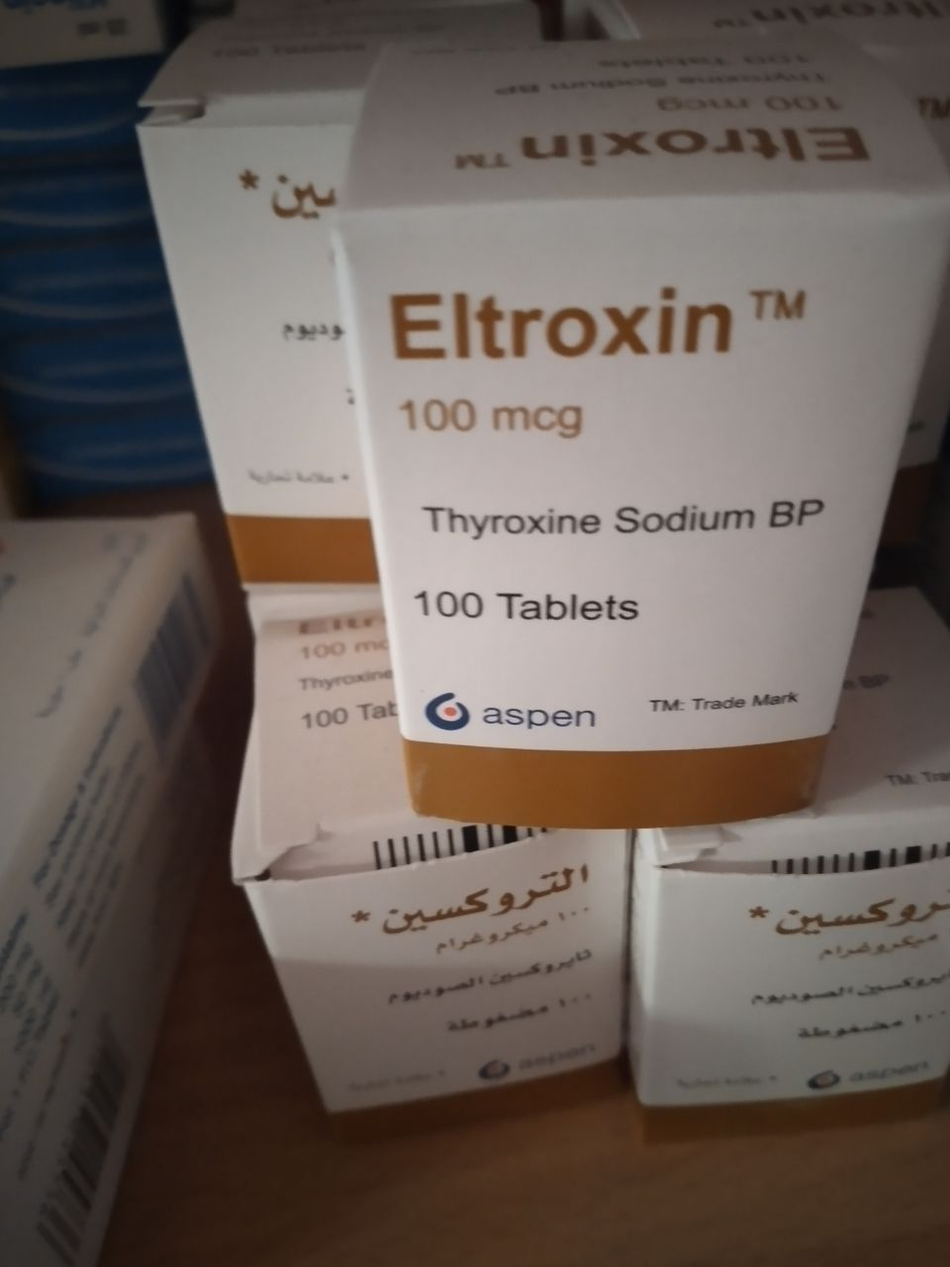Medicine: (333, 43, 950, 825), (234, 640, 630, 1175), (119, 79, 389, 653), (637, 812, 950, 1155)
